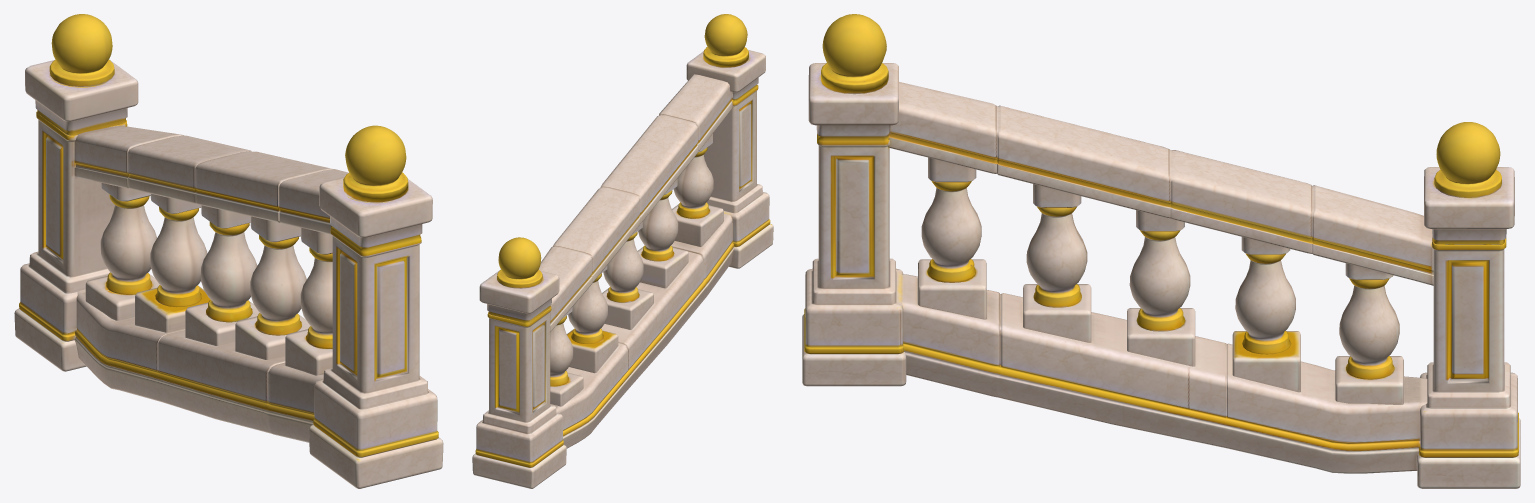
File: HaloVar4_Balustrade_D_SM_tex4k_pbr_src.fbx
3 renders of one model, left to right at view 1: azimuth 30°, elevation 25°; view 2: azimuth 150°, elevation 25°; view 3: azimuth 270°, elevation 25°, orthographic. The views are drawn at different scales.
Visible parts, largest first — view 1: tripo_64ffdde9_a9dc_437c_a27a_dfc2a0d99a39; view 2: tripo_64ffdde9_a9dc_437c_a27a_dfc2a0d99a39; view 3: tripo_64ffdde9_a9dc_437c_a27a_dfc2a0d99a39.
Boxes of the visible parts, x1=… form: tripo_64ffdde9_a9dc_437c_a27a_dfc2a0d99a39: x1=14, y1=14, x2=443, y2=488; tripo_64ffdde9_a9dc_437c_a27a_dfc2a0d99a39: x1=472, y1=14, x2=773, y2=488; tripo_64ffdde9_a9dc_437c_a27a_dfc2a0d99a39: x1=802, y1=14, x2=1520, y2=488.
Size of the model in its own units: 0.1479 by 0.6929 by 0.9995.
1 material, 1 textured.
